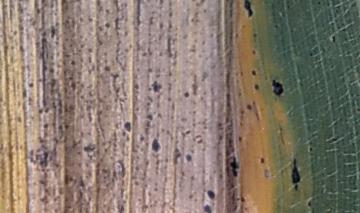tarspot: (291, 157, 301, 189), (270, 78, 284, 98), (149, 79, 163, 95), (231, 156, 240, 179), (244, 1, 254, 19), (151, 137, 161, 153), (206, 188, 216, 200), (202, 204, 213, 213), (123, 122, 132, 132), (253, 82, 260, 92), (182, 90, 190, 98), (186, 153, 193, 162), (331, 32, 336, 44), (259, 156, 265, 165), (251, 48, 257, 57), (27, 81, 34, 88), (246, 103, 252, 111), (307, 199, 312, 208), (251, 70, 258, 76), (308, 146, 314, 153), (237, 135, 243, 142), (253, 30, 257, 39), (240, 197, 245, 202)
